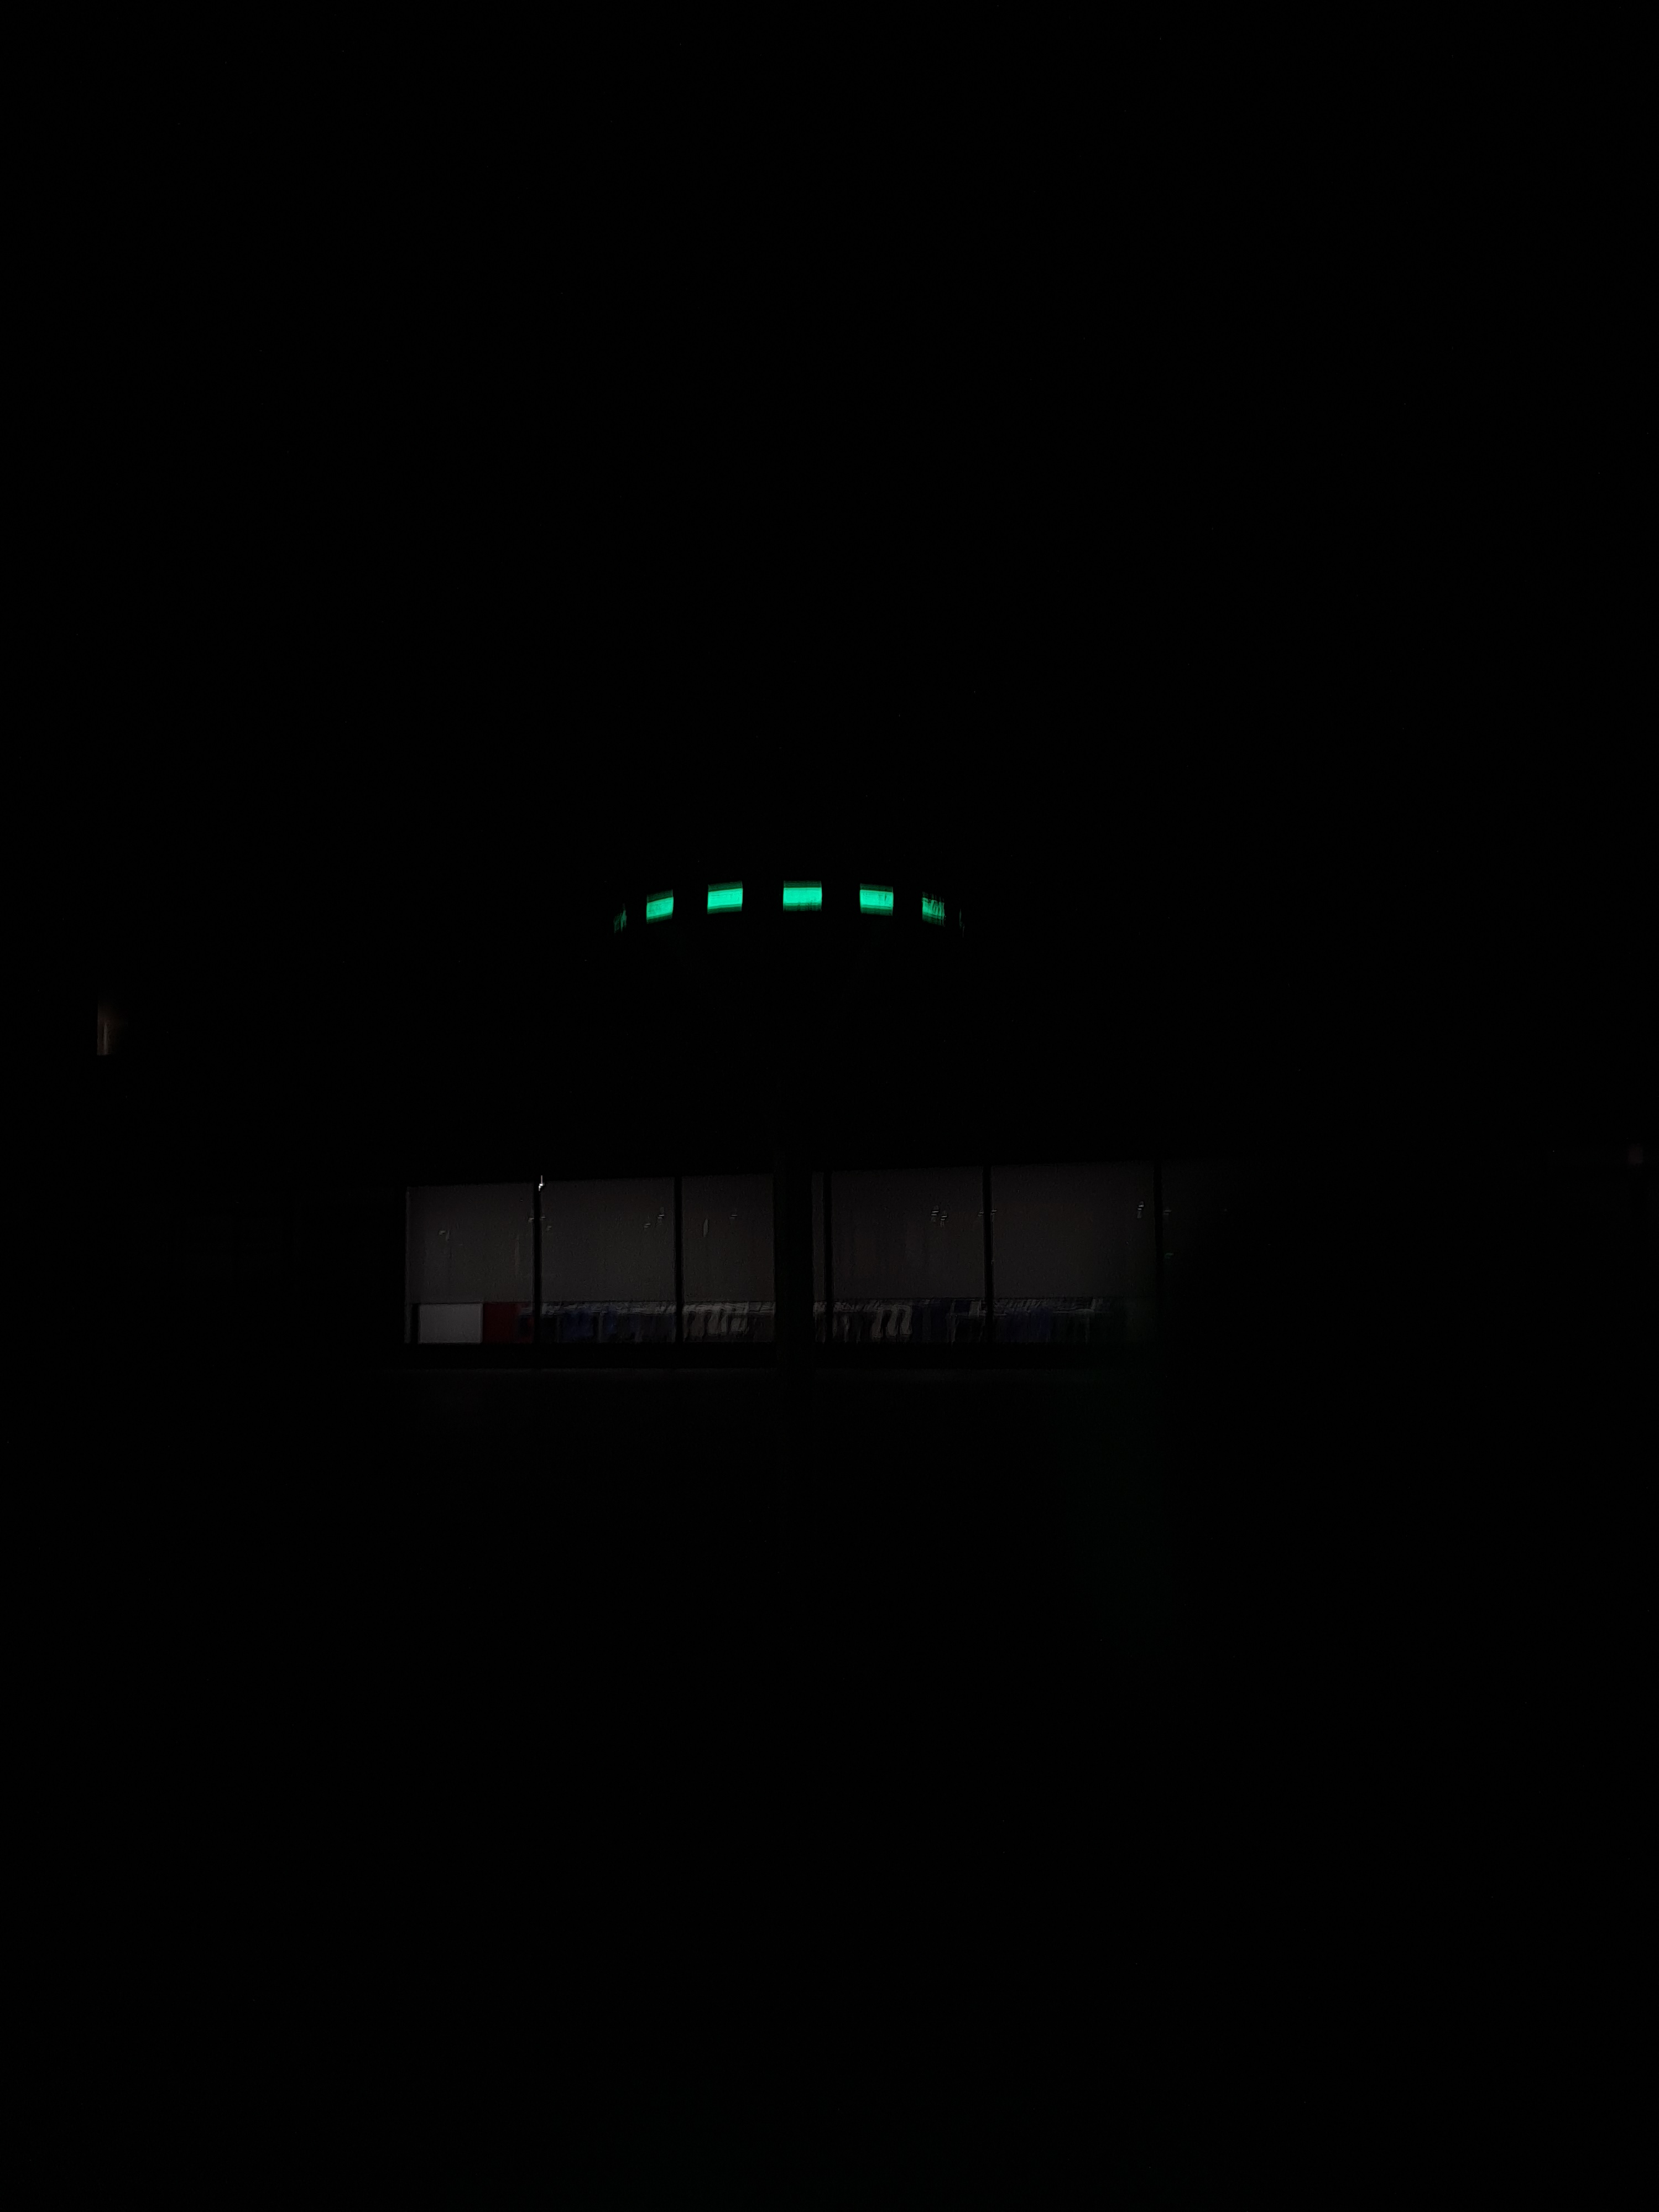hoop: (638, 890, 957, 930)
